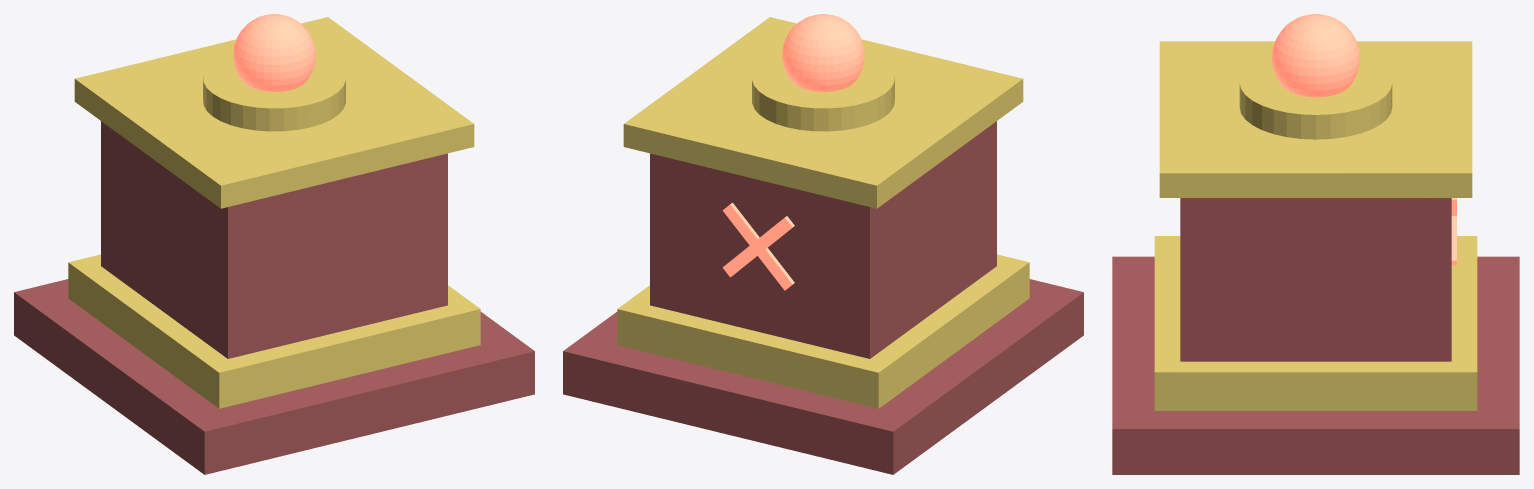
The model's file is altar_ares.glb.
The picture shows the model from 3 angles, left to right: view 1: azimuth 30°, elevation 25°; view 2: azimuth 150°, elevation 25°; view 3: azimuth 270°, elevation 25°; orthographic projection. The views are drawn at different scales.
Parts seen in each view (by area): view 1: Cube.005; view 2: Cube.005; view 3: Cube.005.
Part boxes in pixels (box(x1,y1,x2,y2)): Cube.005: box(14, 14, 534, 474); Cube.005: box(563, 14, 1083, 474); Cube.005: box(1112, 14, 1519, 474).
Bounding box in the file's own units: 2.4 × 2.41 × 2.4.
